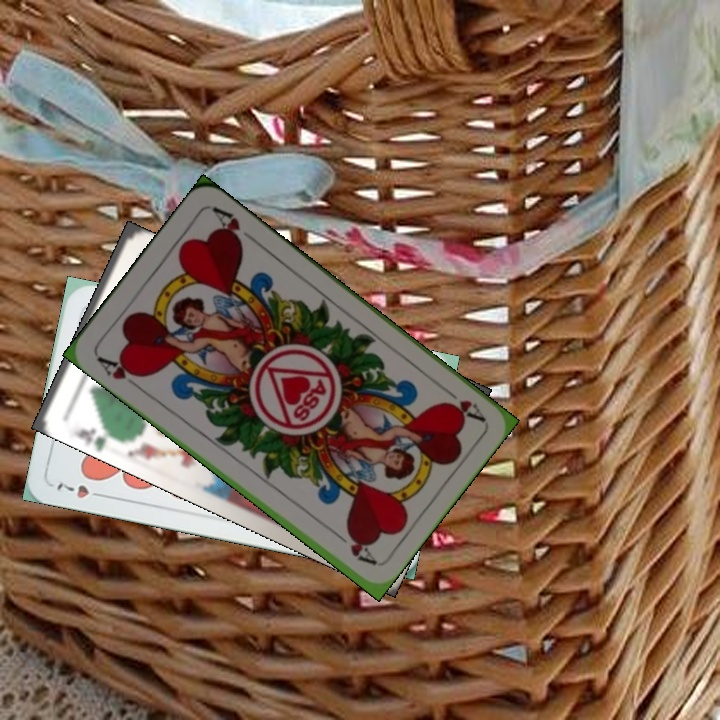GK: (70, 422, 119, 452)
H7: (51, 478, 109, 501)
HA: (436, 381, 487, 424), (93, 352, 145, 393)
